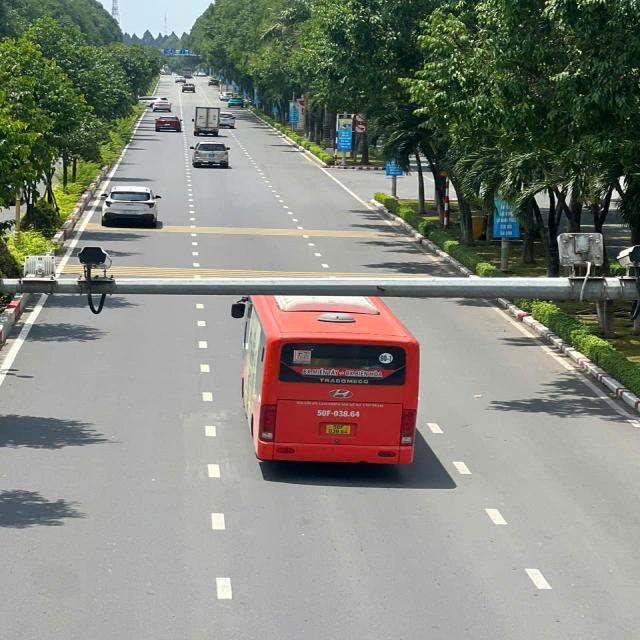car: (235, 286, 425, 470), (99, 183, 162, 230), (188, 140, 233, 170), (153, 114, 185, 134), (218, 106, 237, 130), (151, 98, 175, 113), (226, 94, 246, 110), (180, 80, 198, 95), (218, 90, 238, 102), (206, 75, 222, 87)
